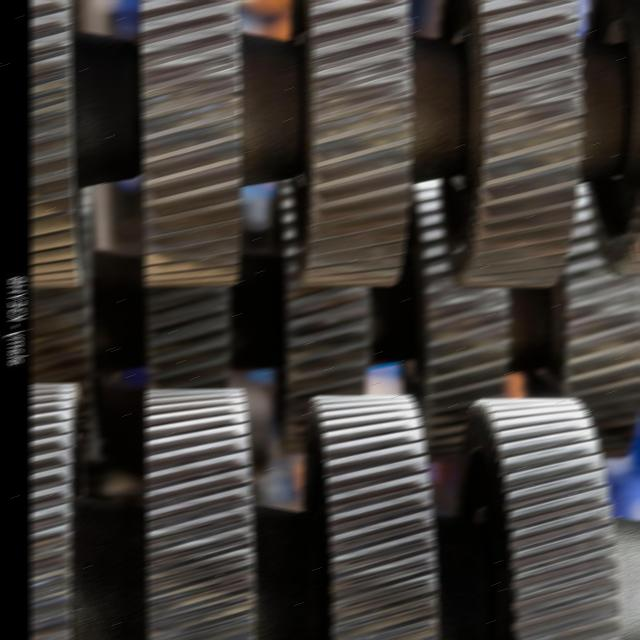Gear: (442, 0, 588, 290), (457, 394, 622, 640), (285, 0, 413, 290), (307, 390, 444, 640), (136, 0, 246, 290), (138, 383, 261, 640), (410, 177, 514, 463), (273, 180, 377, 457), (541, 179, 640, 456), (31, 0, 88, 290), (27, 378, 90, 640), (584, 0, 640, 277), (28, 185, 96, 404), (138, 283, 240, 391)
